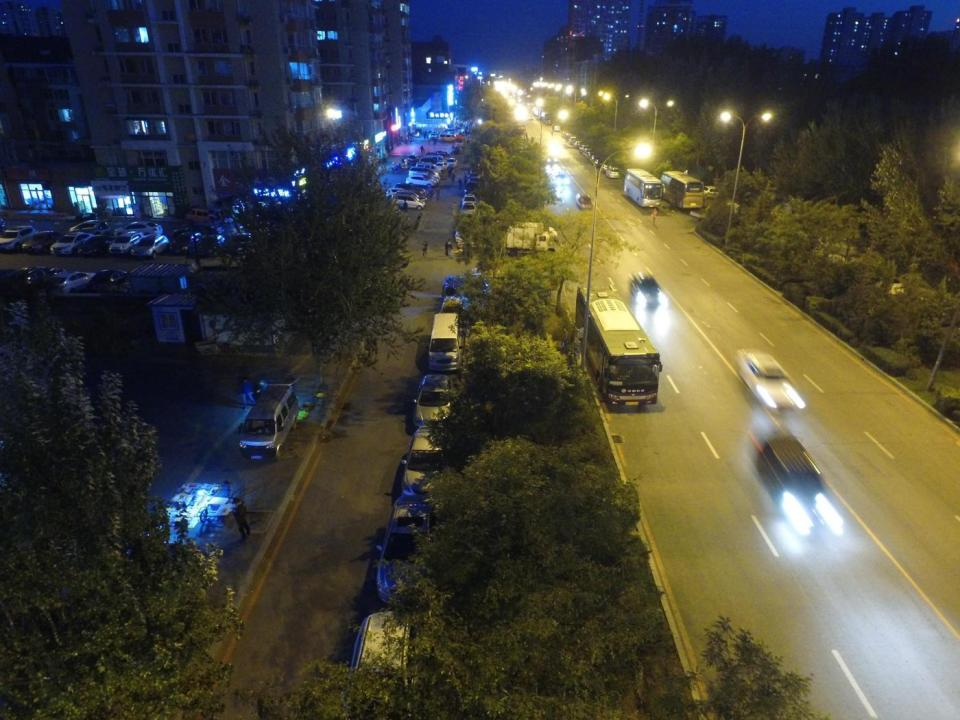bus: (574, 284, 664, 408), (660, 165, 706, 214), (624, 168, 667, 208)
car: (350, 612, 424, 719), (376, 491, 443, 604), (736, 351, 807, 415), (403, 422, 453, 499), (413, 374, 459, 432), (910, 293, 960, 332), (866, 264, 908, 300), (525, 259, 554, 307), (630, 271, 663, 313), (49, 266, 94, 294), (129, 232, 170, 262), (113, 218, 164, 240), (87, 268, 130, 294), (0, 222, 37, 252), (463, 264, 511, 286), (75, 232, 115, 258), (11, 262, 47, 288), (23, 230, 63, 253), (52, 231, 91, 254), (440, 293, 473, 319), (110, 232, 145, 256), (189, 232, 224, 256), (170, 230, 202, 256), (721, 197, 752, 221), (72, 219, 110, 238), (388, 186, 424, 206), (230, 224, 273, 240), (391, 190, 432, 205), (171, 226, 210, 241), (186, 223, 225, 237), (403, 174, 436, 190), (453, 220, 473, 246), (394, 183, 425, 199), (575, 191, 596, 214), (411, 170, 442, 183), (412, 171, 438, 185), (418, 157, 442, 169), (704, 184, 721, 200), (462, 201, 478, 217), (462, 180, 477, 195), (462, 194, 479, 207), (467, 170, 482, 182), (426, 152, 444, 162), (446, 156, 459, 169), (469, 160, 483, 171), (556, 172, 567, 185), (593, 158, 606, 168), (436, 150, 452, 158), (546, 152, 557, 163), (590, 155, 602, 165), (585, 151, 598, 160), (558, 185, 569, 195), (435, 162, 445, 171), (428, 130, 438, 139), (600, 163, 610, 172), (573, 140, 583, 148), (569, 136, 578, 144), (561, 131, 570, 139), (553, 125, 561, 132), (543, 118, 551, 125), (564, 133, 572, 139), (528, 116, 534, 120)
truck: (481, 218, 566, 258)
van: (755, 433, 855, 555), (239, 376, 303, 460), (426, 311, 459, 371), (186, 205, 223, 226), (408, 165, 442, 183), (390, 194, 427, 210), (416, 160, 440, 175), (427, 155, 449, 166), (606, 165, 621, 180), (437, 132, 456, 142), (577, 144, 592, 155), (454, 139, 466, 148), (442, 128, 456, 135)
